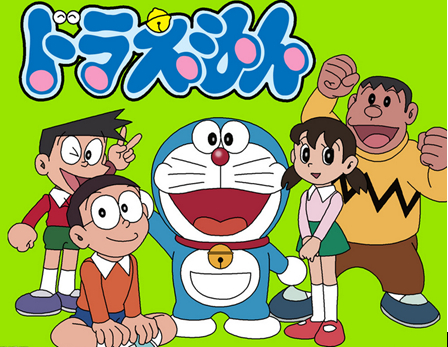Doraemon: (146, 108, 304, 339)
